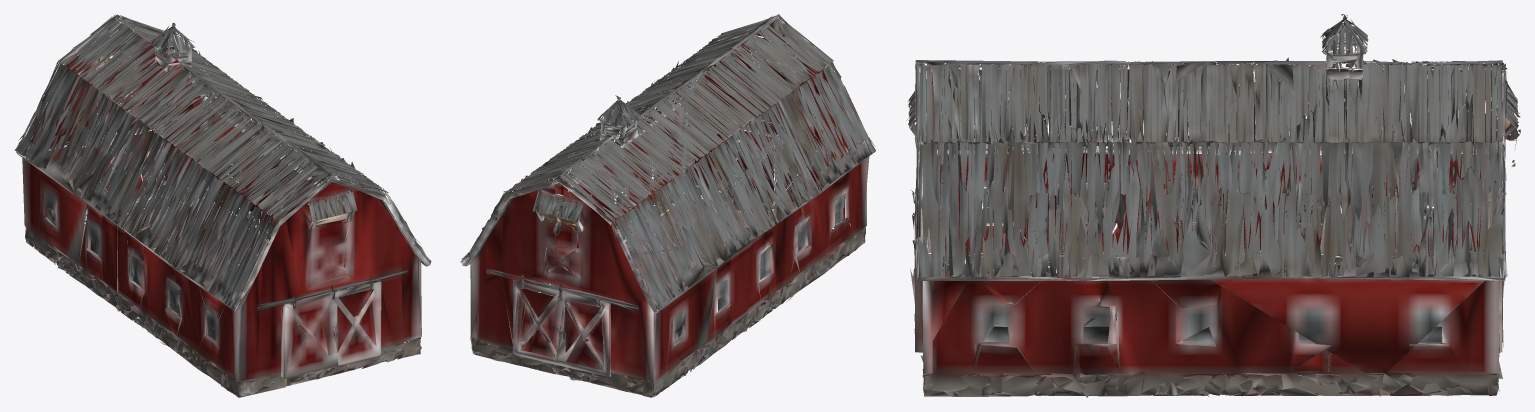
File: gbarn.glb
The picture shows the model from 3 angles, left to right: view 1: azimuth 30°, elevation 25°; view 2: azimuth 150°, elevation 25°; view 3: azimuth 270°, elevation 25°; orthographic projection. The views are drawn at different scales.
Parts seen in each view (by area): view 1: LO.001; view 2: LO.001; view 3: LO.001.
Boxes of the visible parts, x1,y1,x2,y2 form: LO.001: [14, 14, 431, 397]; LO.001: [460, 14, 875, 397]; LO.001: [906, 14, 1520, 397].
Bounding box in the file's own units: 10.31 × 11.79 × 20.19.
Materials: 1 (1 with a texture image).
